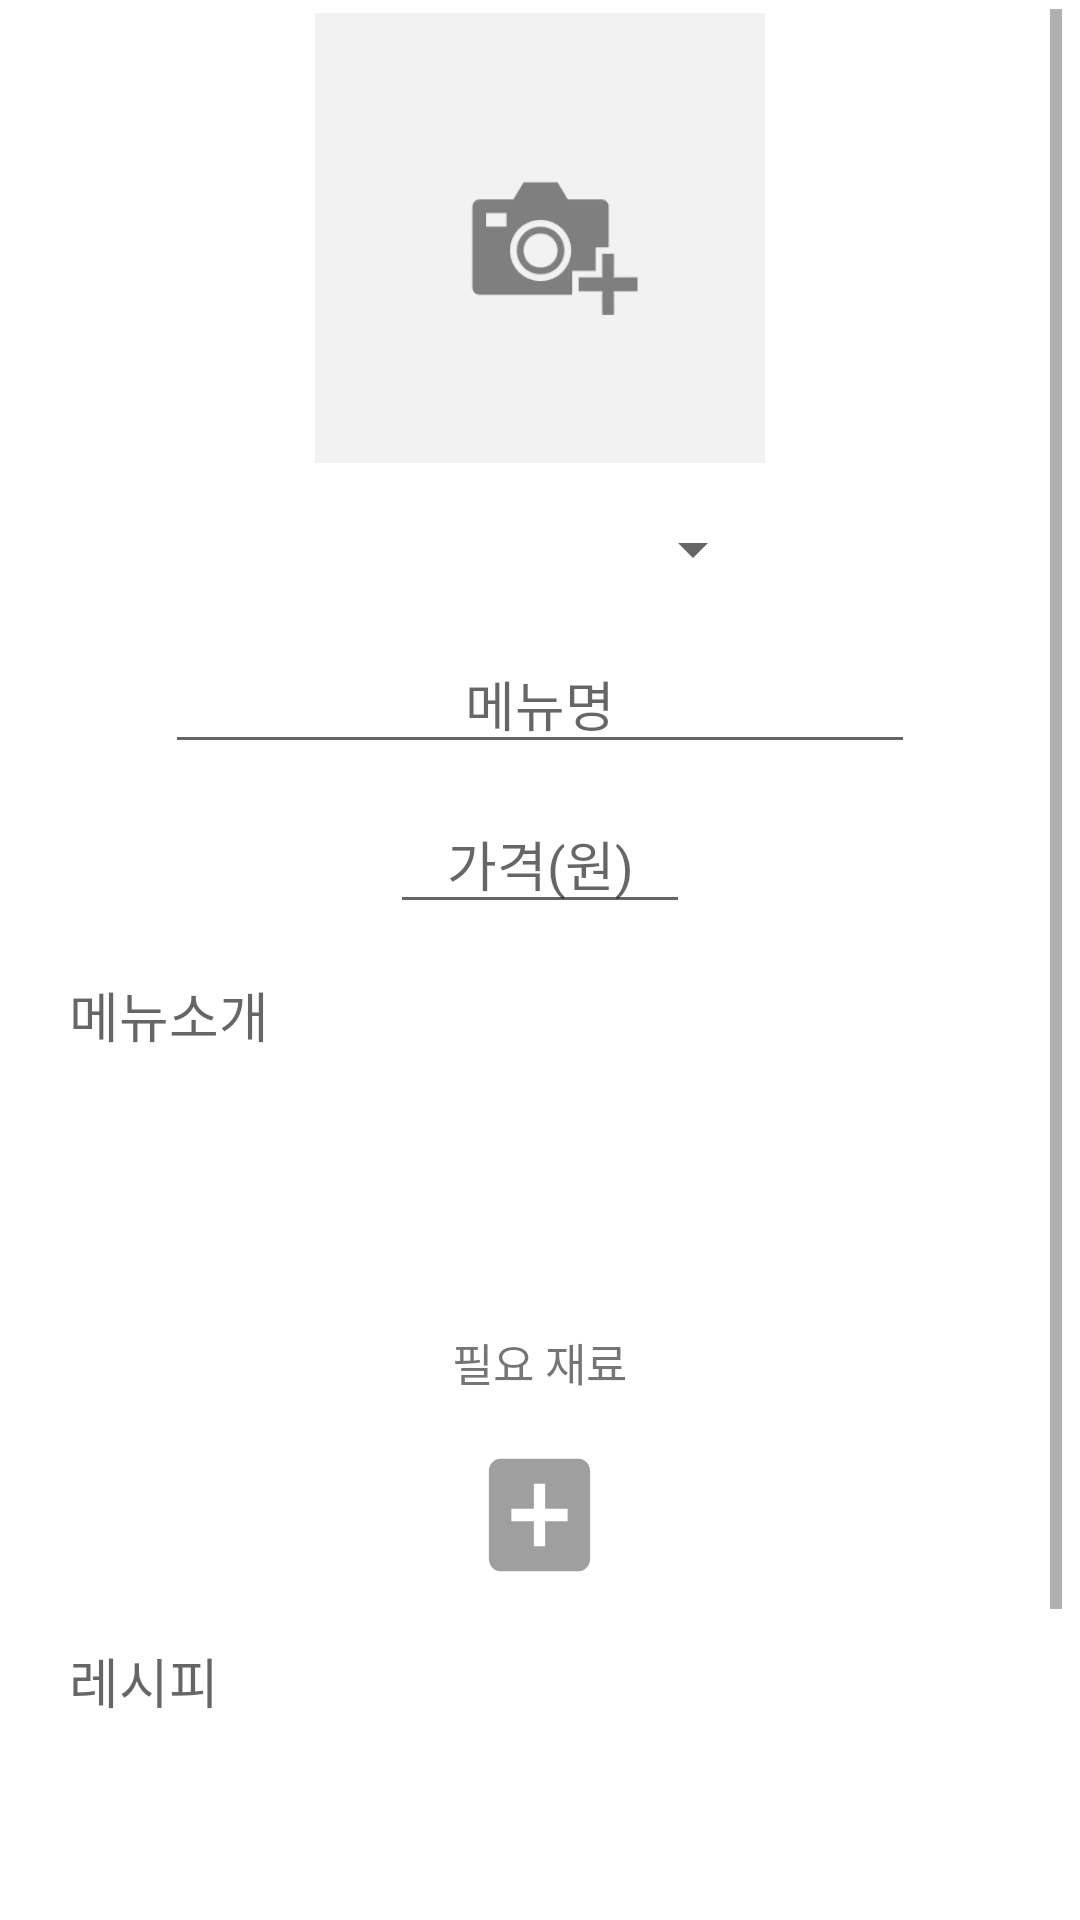

Point at icon controls on the screen. Image size 1080 x 1920, points as (x,y).
add box: (539,1515)
addphoto: (554,248)
